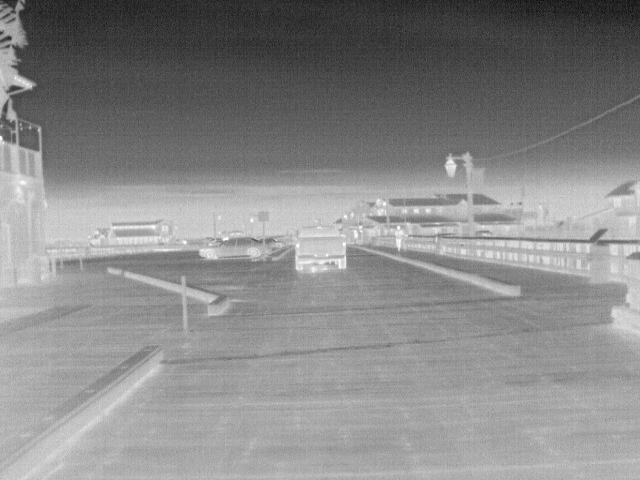car: (293, 224, 351, 273), (196, 237, 272, 262)
person: (390, 223, 406, 254)
